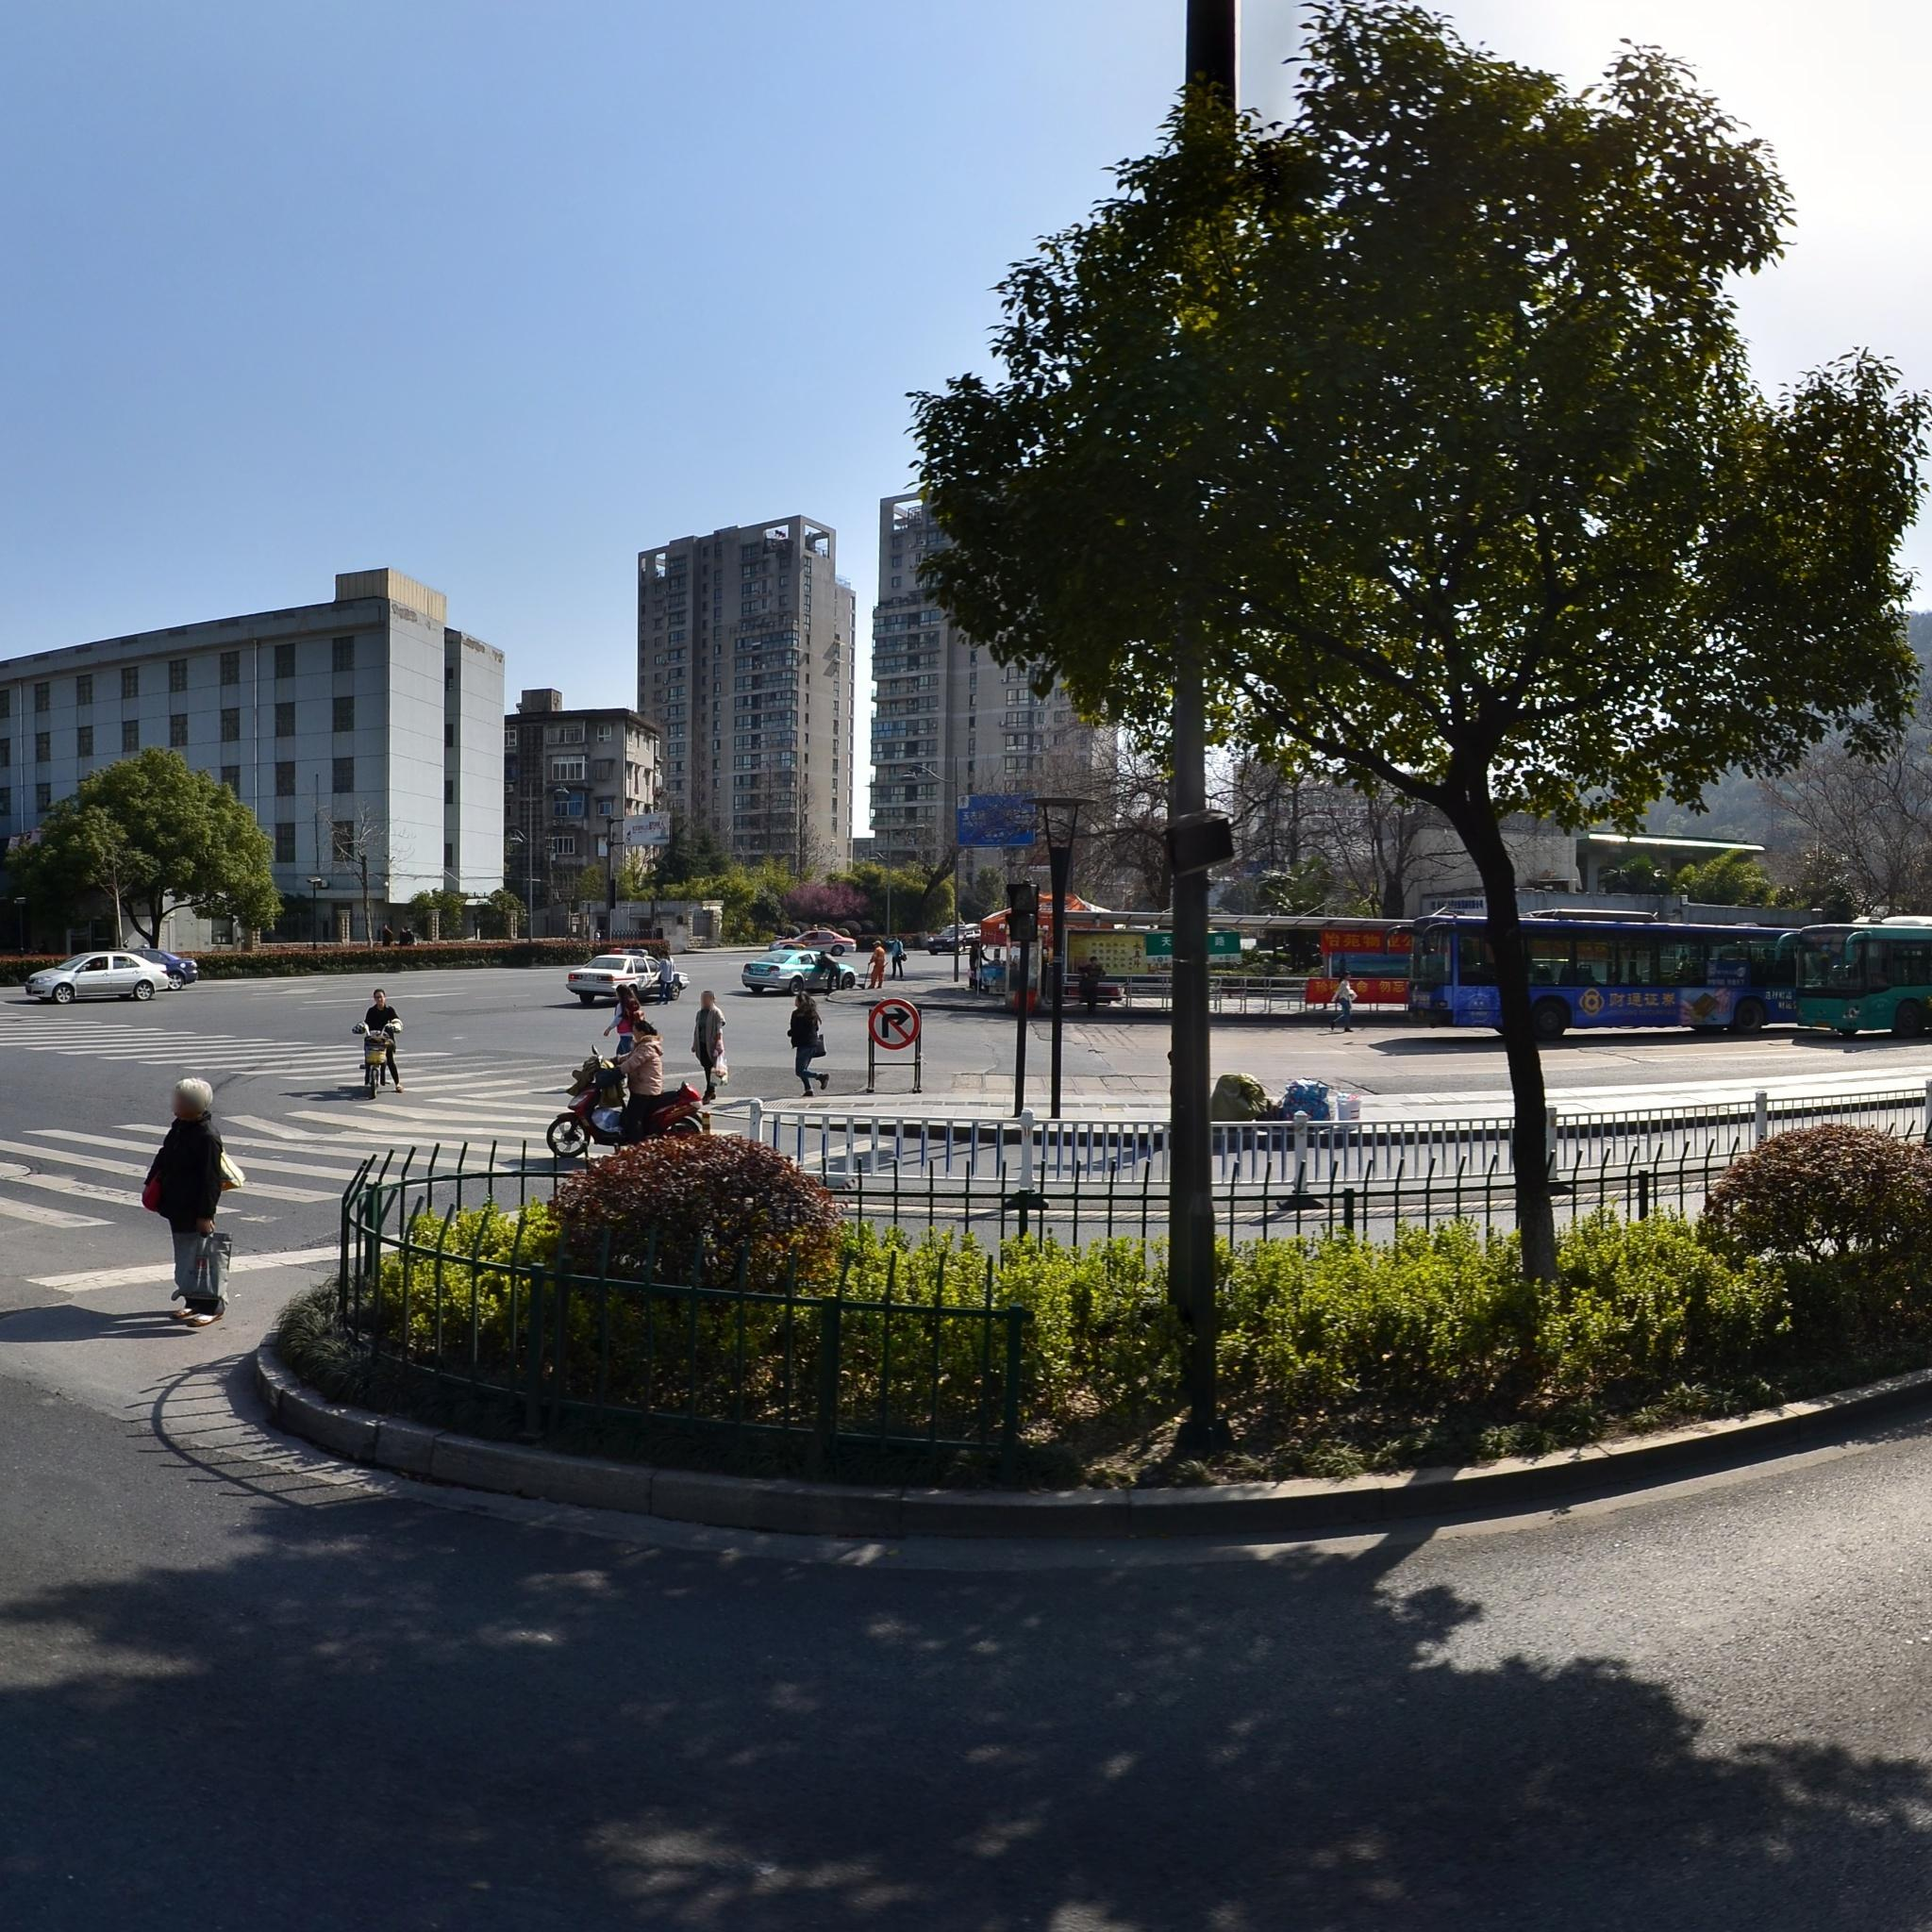p19: (865, 1003, 932, 1067)
